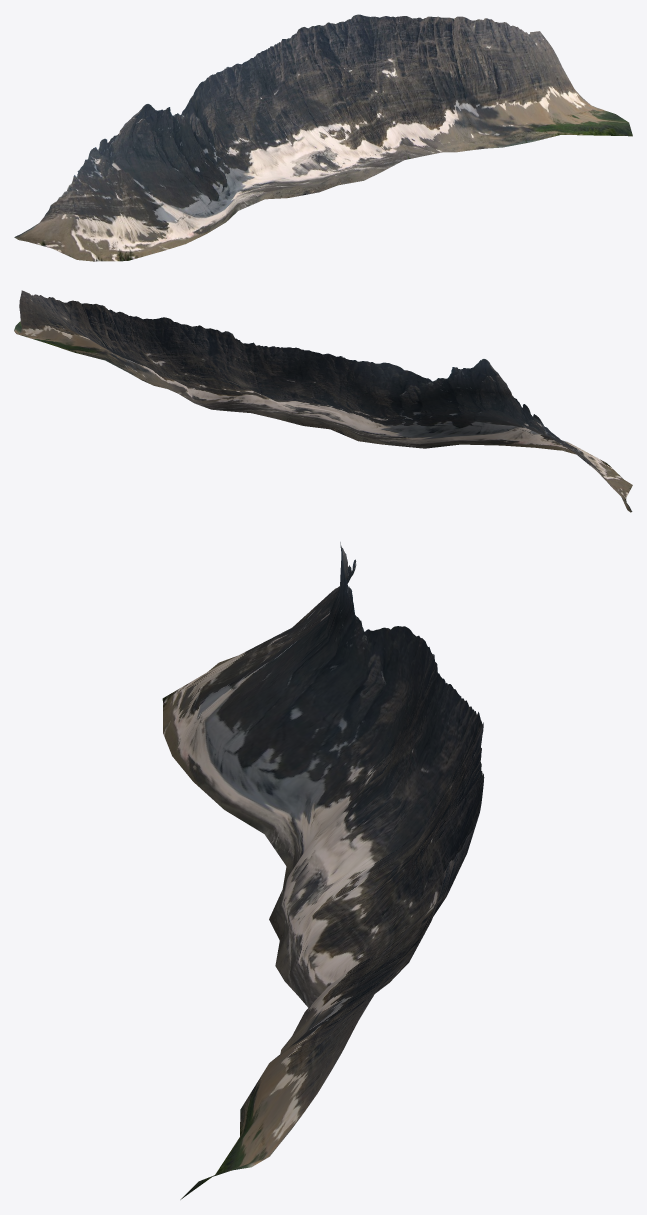
Rendered from mountain.FBX.
The picture shows the model from 3 angles, top to bottom: view 1: azimuth 30°, elevation 25°; view 2: azimuth 150°, elevation 25°; view 3: azimuth 270°, elevation 25°; orthographic projection. The views are drawn at different scales.
Visible parts, largest first — view 1: mountain; view 2: mountain; view 3: mountain.
Boxes of the visible parts, box(x1,y1,x2,y2) form: mountain: box(14, 14, 632, 261); mountain: box(14, 290, 632, 512); mountain: box(162, 542, 484, 1199).
Bounding box in the file's own units: 6.26 × 1.51 × 1.22.
1 material, 1 textured.
